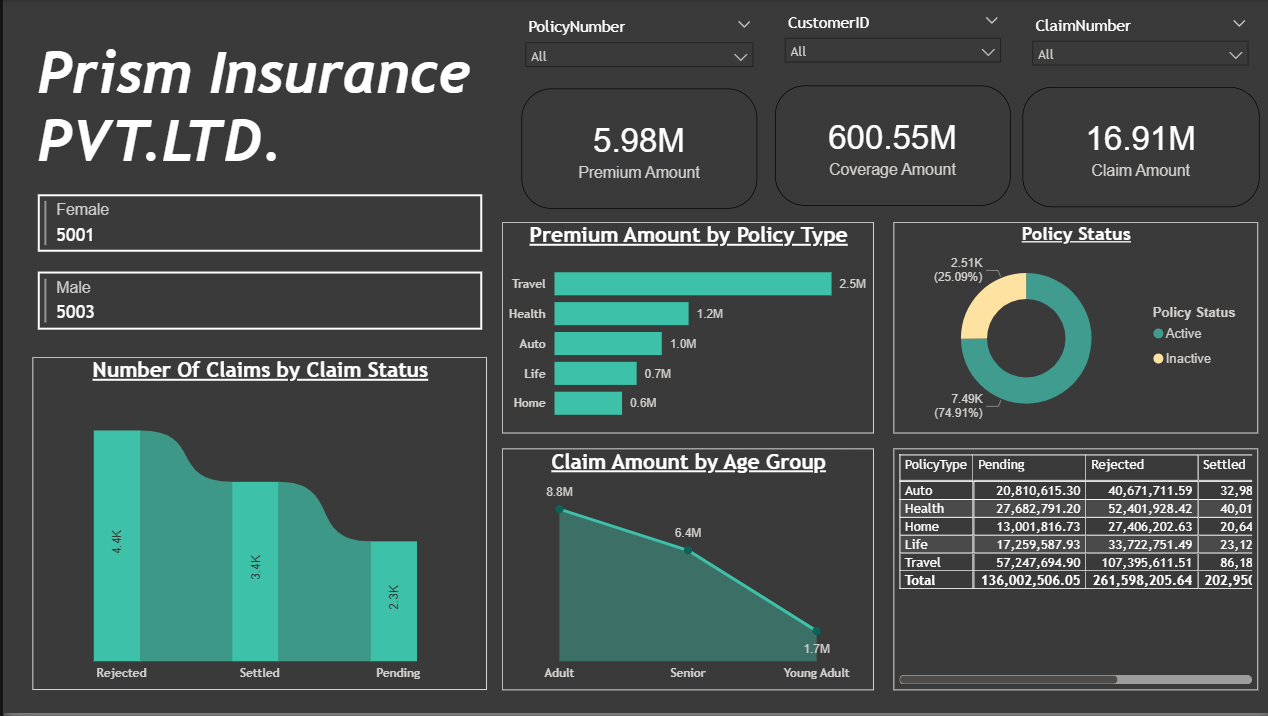

The page's visual inventory and layout, read from the dashboard file:
{"tool":"powerbi","page":{"name":"Overview","canvas":[1280,720],"ordinal":0},"visuals":[{"type":"slicer","fields":{"Values":["InsuranceData.PolicyNumber"]},"box":[516.3,12.1,249.8,77.2],"z":0},{"type":"slicer","fields":{"Values":["InsuranceData.CustomerID"]},"box":[778.3,7.6,237.7,77.2],"z":1000},{"type":"slicer","fields":{"Values":["InsuranceData.ClaimNumber"]},"box":[1028.1,10.6,237.7,77.2],"z":2000},{"type":"textbox","box":[28.8,33.3,458.8,157.5],"z":3000},{"type":"card","fields":{"Values":["Sum(InsuranceData.PremiumAmount)"]},"box":[522.4,89.3,237.7,121.1],"z":4000},{"type":"card","fields":{"Values":["Sum(InsuranceData.CoverageAmount)"]},"box":[778.3,86.3,237.7,121.1],"z":4001},{"type":"card","fields":{"Values":["Sum(InsuranceData.ClaimAmount)"]},"box":[1028.1,87.8,239.2,121.1],"z":4002},{"type":"multiRowCard","fields":{"Values":["InsuranceData.Gender","CountNonNull(InsuranceData.Gender)"]},"box":[28.8,190.8,458.8,169.6],"z":4003},{"type":"ribbonChart","title":"Number Of Claims by Claim Status","fields":{"Category":["InsuranceData.ClaimStatus"],"Y":["CountNonNull(InsuranceData.ClaimStatus)"]},"box":[28.8,360.4,458.8,336.2],"z":4004},{"type":"barChart","title":"Premium Amount by Policy Type","fields":{"Category":["InsuranceData.PolicyType"],"Y":["Sum(InsuranceData.PremiumAmount)"]},"box":[502.7,224.1,375.5,213.5],"z":4005},{"type":"lineChart","title":"Claim Amount by Age Group","fields":{"Category":["InsuranceData.Age Group"],"Y":["Sum(InsuranceData.ClaimAmount)"]},"box":[502.7,452.7,375.5,243.8],"z":4006},{"type":"donutChart","title":"Policy Status ","fields":{"Category":["InsuranceData.Policy Status"],"Y":["CountNonNull(InsuranceData.Policy Status)"]},"box":[897.9,224.1,368,213.5],"z":4007},{"type":"pivotTable","fields":{"Values":["Sum(InsuranceData.CoverageAmount)"],"Rows":["InsuranceData.PolicyType"],"Columns":["InsuranceData.ClaimStatus"]},"box":[898,453,368,244],"z":4008}]}

Visuals, with their boxes in screenshot pixels (x1, y1, x2, y2), scaled from the page's 1280x720 canvas onto the 1268x716 screenshot:
slicer - InsuranceData.PolicyNumber: box(511, 12, 759, 89)
slicer - InsuranceData.CustomerID: box(771, 8, 1006, 84)
slicer - InsuranceData.ClaimNumber: box(1018, 11, 1254, 87)
textbox: box(29, 33, 483, 190)
card - Sum(InsuranceData.PremiumAmount): box(518, 89, 753, 209)
card - Sum(InsuranceData.CoverageAmount): box(771, 86, 1006, 206)
card - Sum(InsuranceData.ClaimAmount): box(1018, 87, 1255, 208)
multiRowCard - InsuranceData.Gender x CountNonNull(InsuranceData.Gender): box(29, 190, 483, 358)
"Number Of Claims by Claim Status" ribbonChart: box(29, 358, 483, 693)
"Premium Amount by Policy Type" barChart: box(498, 223, 870, 435)
"Claim Amount by Age Group" lineChart: box(498, 450, 870, 693)
"Policy Status " donutChart: box(889, 223, 1254, 435)
pivotTable - Sum(InsuranceData.CoverageAmount) x InsuranceData.PolicyType: box(890, 450, 1254, 693)
